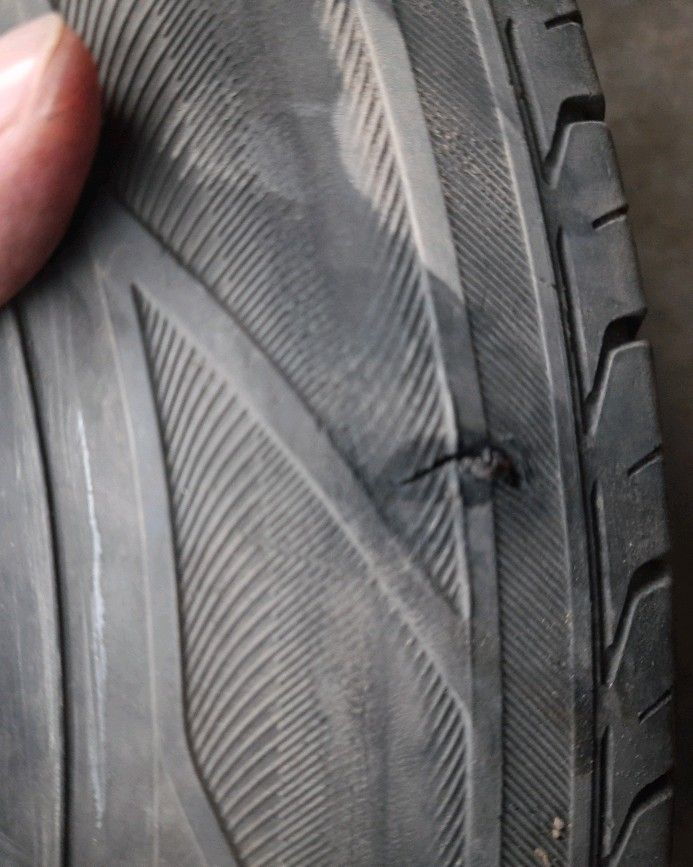cut: (391, 432, 527, 493)
